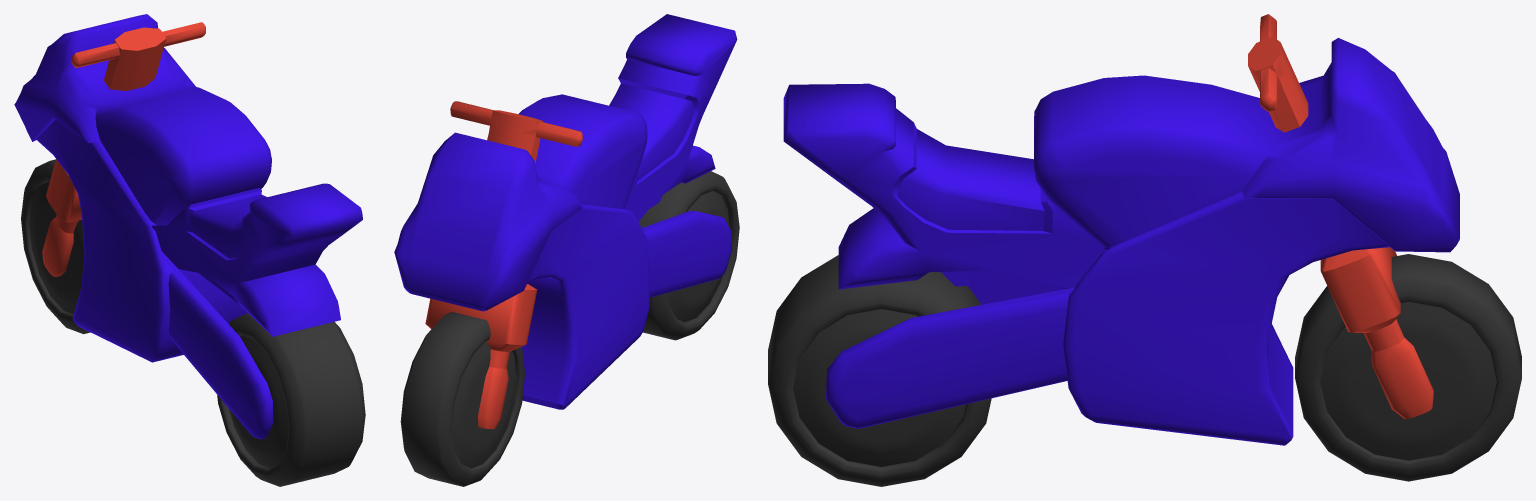
The model's file is mototoy.fbx.
The picture shows the model from 3 angles, left to right: view 1: azimuth 30°, elevation 25°; view 2: azimuth 150°, elevation 25°; view 3: azimuth 270°, elevation 25°; orthographic projection. The views are drawn at different scales.
Parts seen in each view (by area): view 1: Cube; view 2: Cube; view 3: Cube.
Boxes of the visible parts, left/top/right/bottom form: Cube: left=14, top=14, right=365, bottom=486; Cube: left=394, top=14, right=739, bottom=486; Cube: left=768, top=14, right=1521, bottom=486.
Bounding box in the file's own units: 102 × 242 × 392.
